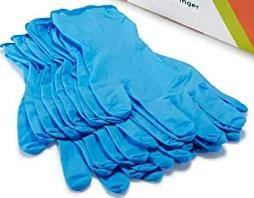gloves: (3, 7, 248, 193)
